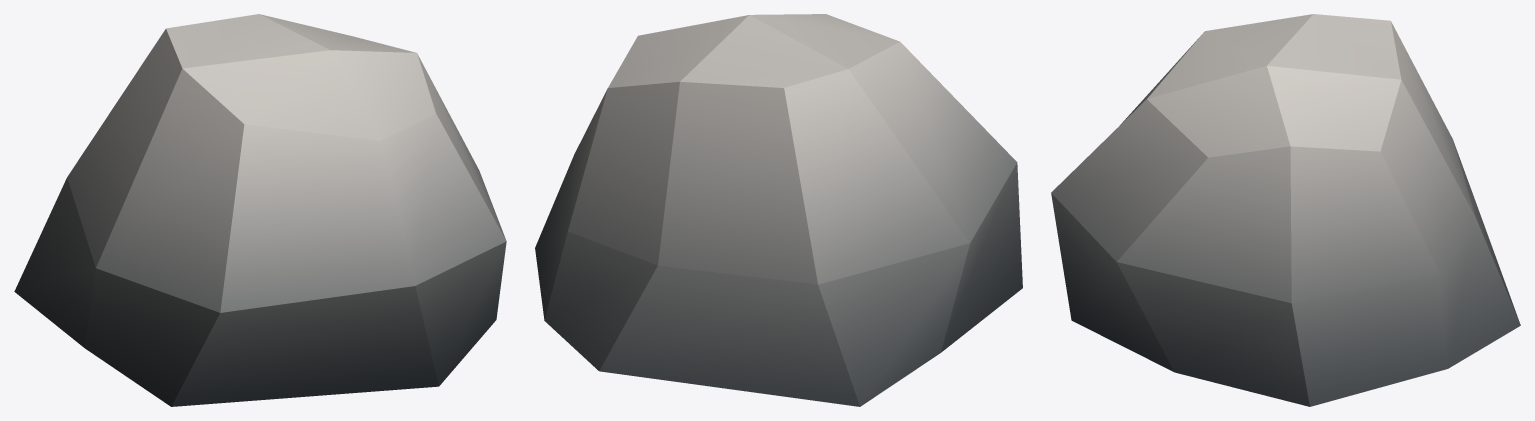
File: m_Rock01.fbx
3 renders of one model, left to right at view 1: azimuth 30°, elevation 25°; view 2: azimuth 150°, elevation 25°; view 3: azimuth 270°, elevation 25°, orthographic. The views are drawn at different scales.
Parts seen in each view (by area): view 1: m_Rock01; view 2: m_Rock01; view 3: m_Rock01.
Boxes of the visible parts, x1,y1,x2,y2 form: m_Rock01: (14, 14, 506, 406); m_Rock01: (535, 14, 1022, 406); m_Rock01: (1051, 14, 1520, 406).
Size of the model in its own units: 49.74 by 30 by 50.48.
